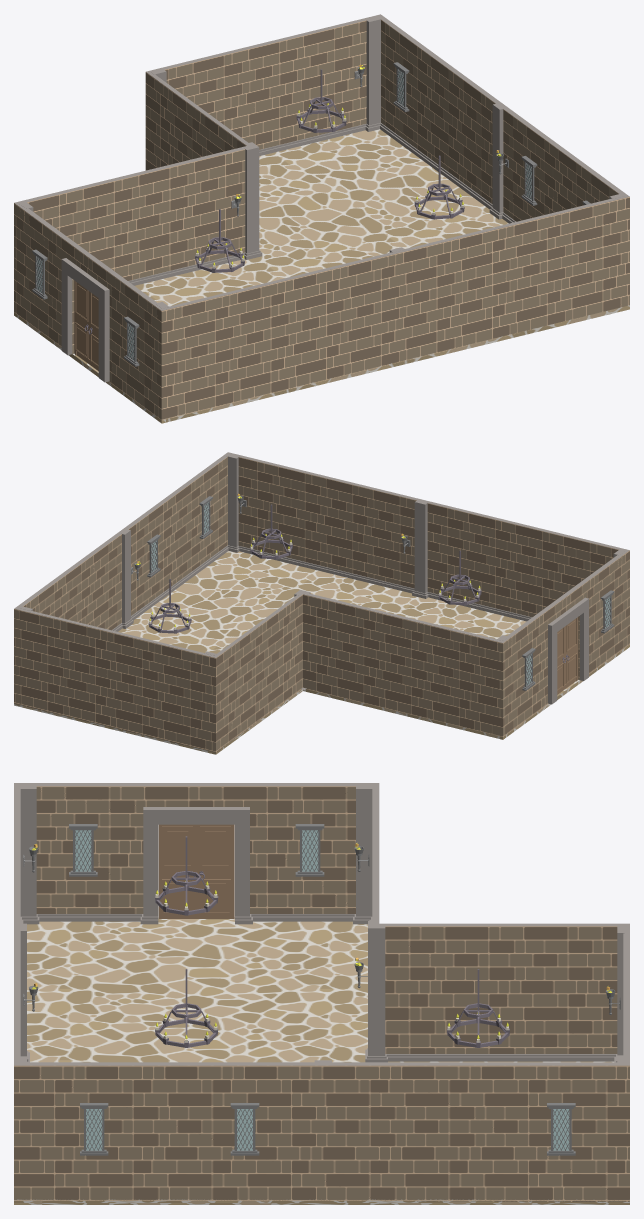
The model's file is Room_Base.fbx.
3 views of the same model, one above another, from view 1: azimuth 30°, elevation 25°; view 2: azimuth 150°, elevation 25°; view 3: azimuth 270°, elevation 25° (orthographic). The views are drawn at different scales.
Parts seen in each view (by area): view 1: walls, floor, door_border, Chndelier_Steel_Geo (×3), polySurface163, door (×2), pCube67, pCube60, pCube66; view 2: walls, floor, polySurface163, Chndelier_Steel_Geo (×3), door_border, door (×2), pCube68, pCube61, pCube66; view 3: walls, floor, door (×2), door_border, Chndelier_Steel_Geo (×3), polySurface163, Window_Glass_Geo (×5), pCube67, pCube62, pCube63, Window_Cross_Frame_Geo (×3), pCube68 (+1 smaller).
Part boxes in pixels (<box>): walls: <box>14,14,629,420</box>; floor: <box>14,129,629,423</box>; door_border: <box>61,258,109,382</box>; Chndelier_Steel_Geo (×3): <box>195,69,464,272</box>; polySurface163: <box>128,122,515,285</box>; door (×2): <box>74,280,98,370</box>; pCube67: <box>244,142,259,253</box>; pCube60: <box>366,17,380,125</box>; pCube66: <box>492,103,504,212</box>; walls: <box>14,452,629,752</box>; floor: <box>14,551,629,754</box>; polySurface163: <box>112,545,531,631</box>; Chndelier_Steel_Geo (×3): <box>148,504,481,633</box>; door_border: <box>548,597,588,704</box>; door (×2): <box>557,617,578,694</box>; pCube68: <box>414,500,427,593</box>; pCube61: <box>226,454,239,547</box>; pCube66: <box>121,529,130,623</box>; walls: <box>14,783,629,1201</box>; floor: <box>14,917,629,1204</box>; door (×2): <box>158,824,234,918</box>; door_border: <box>143,807,249,916</box>; Chndelier_Steel_Geo (×3): <box>155,836,509,1047</box>; polySurface163: <box>20,914,617,1061</box>; Window_Glass_Geo (×5): <box>75,830,569,1150</box>; pCube67: <box>368,921,385,1055</box>; pCube62: <box>19,784,36,916</box>; pCube63: <box>356,784,373,916</box>; Window_Cross_Frame_Geo (×3): <box>73,830,571,1150</box>; pCube68: <box>18,923,26,1056</box>.
Size of the model in its own units: 1166 by 308 by 1056.
